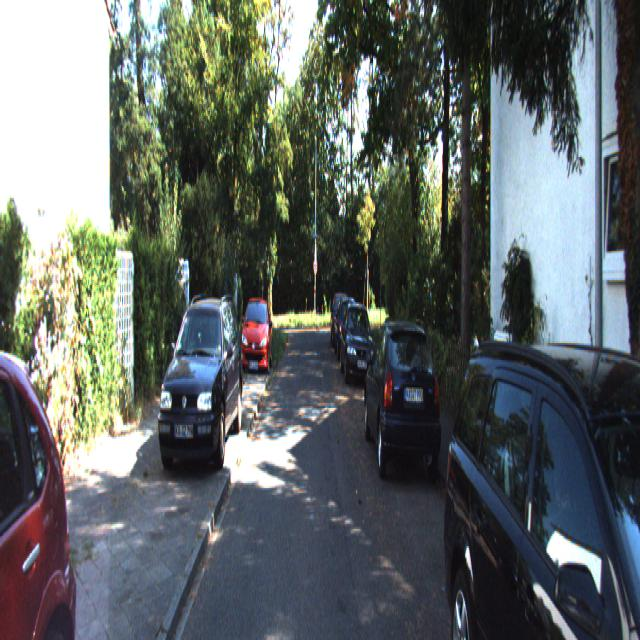Car: (440, 331, 640, 638), (0, 330, 93, 638), (156, 294, 244, 480), (362, 321, 440, 490), (340, 303, 375, 390), (239, 296, 272, 380), (334, 297, 360, 362)
